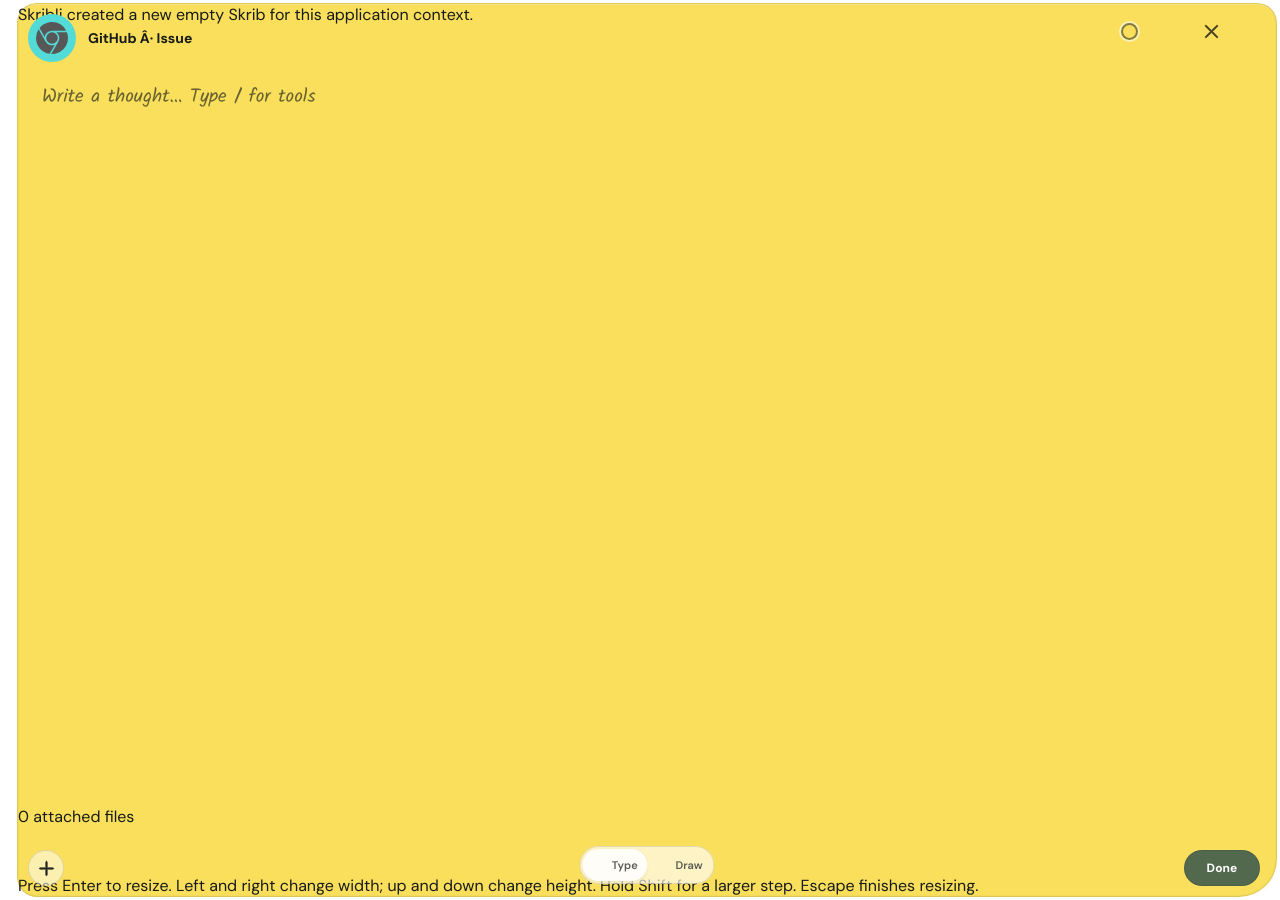
Scenario: note icon ribbons › opens labelled icon actions from Add and closes them on a second click
The image size is (1280, 900).
Click the button named "Add or mark this Skrib" at (46, 868), box [28, 850, 64, 886]
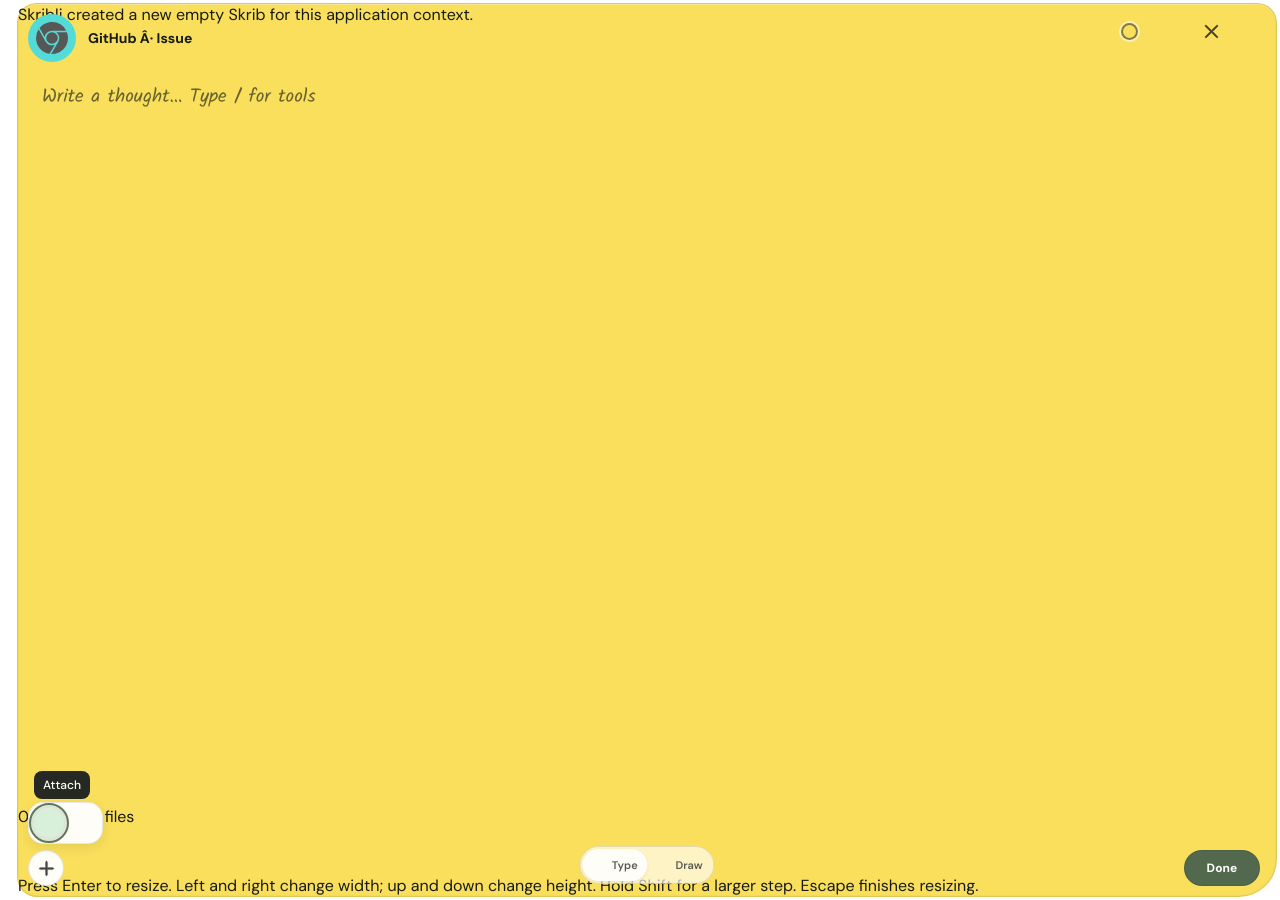
Click the button named "Add or mark this Skrib" at (46, 868), box [28, 850, 64, 886]
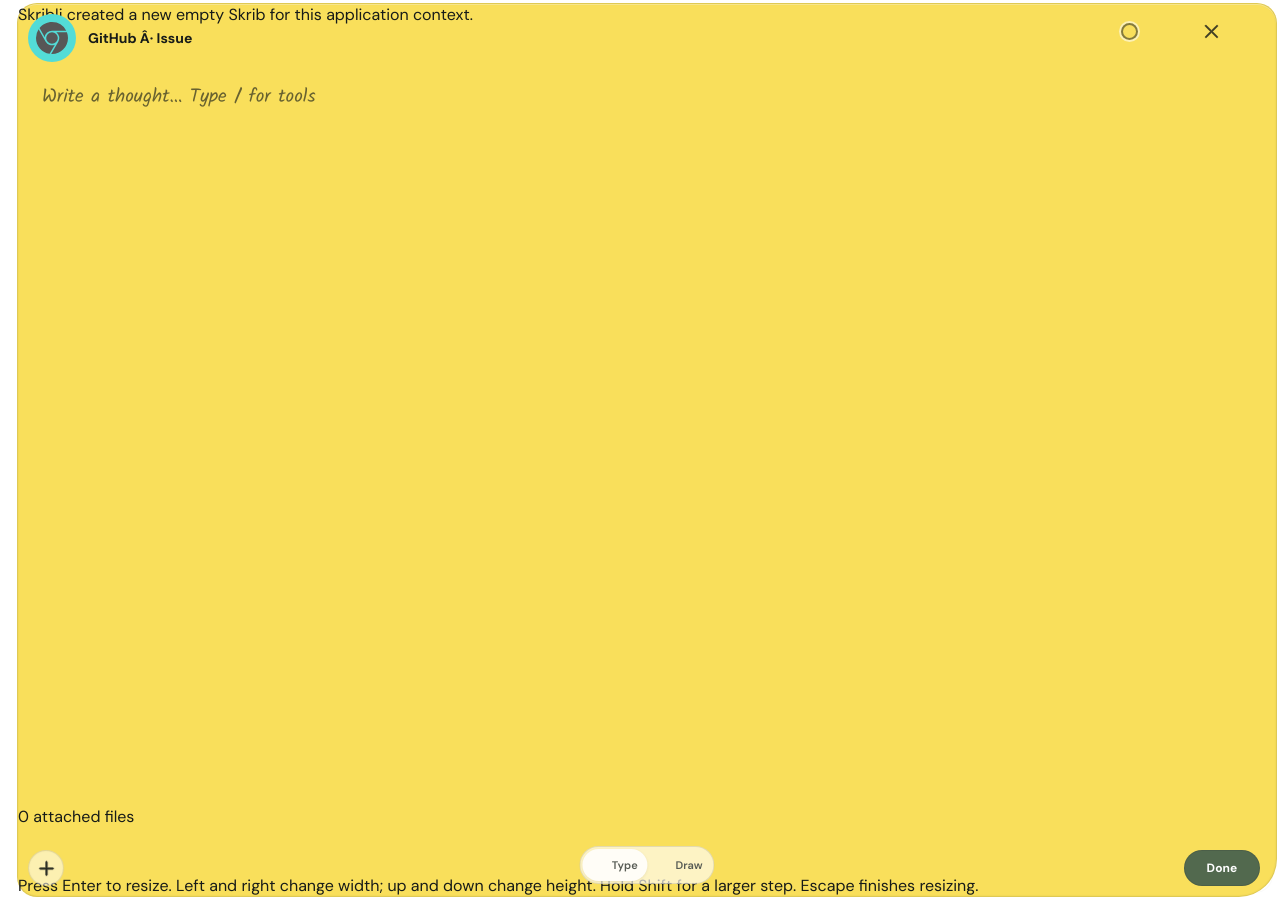
Now the element with class "composer-intent-tray" is gone
